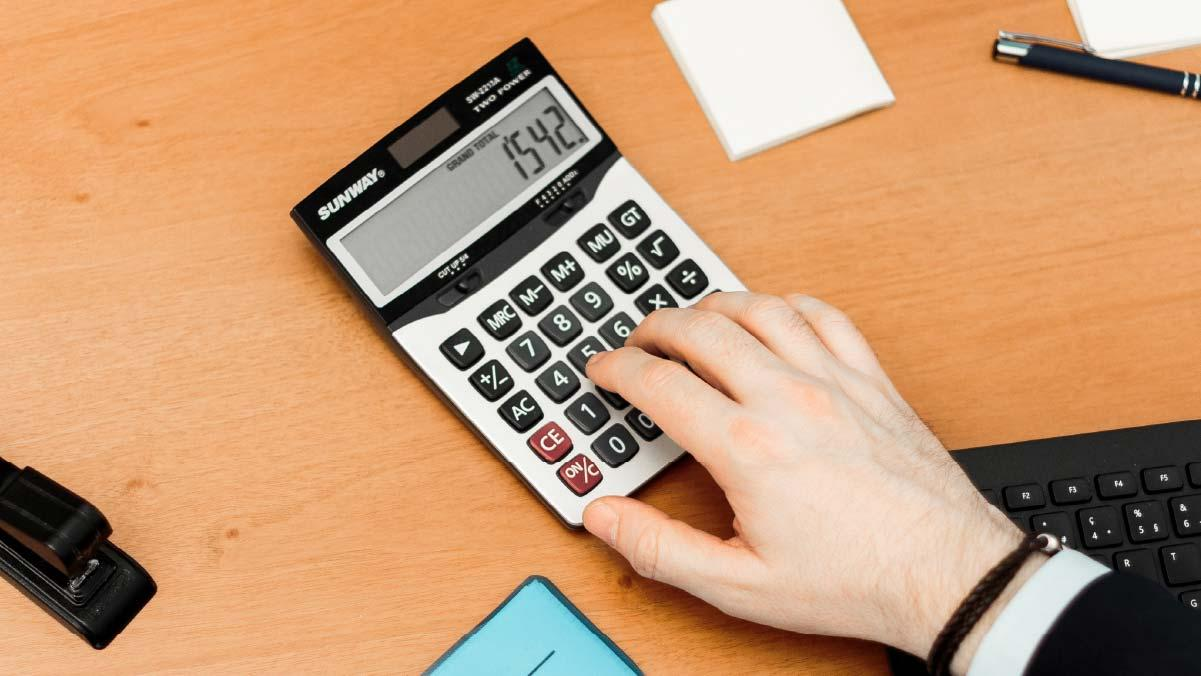Calculator: (285, 21, 776, 576)
